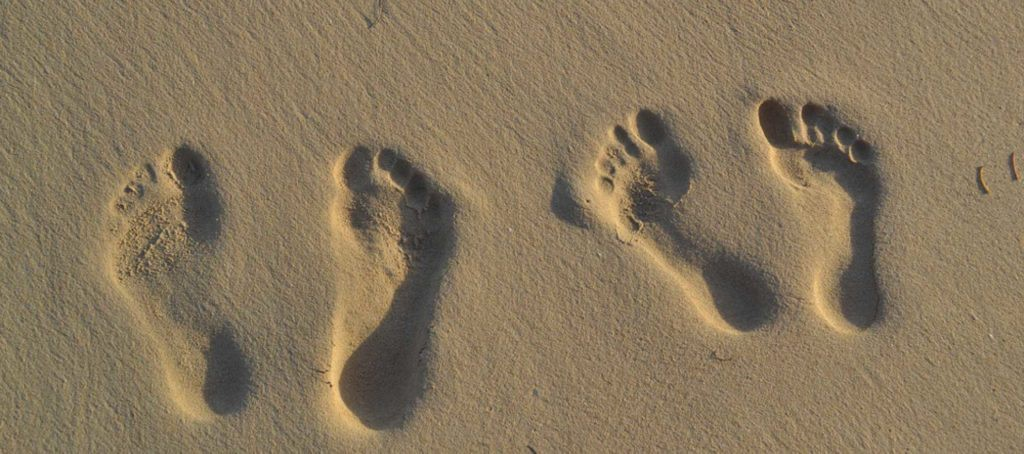human_footprint: (86, 133, 262, 418), (572, 89, 752, 355), (313, 125, 458, 422), (768, 73, 911, 361)
